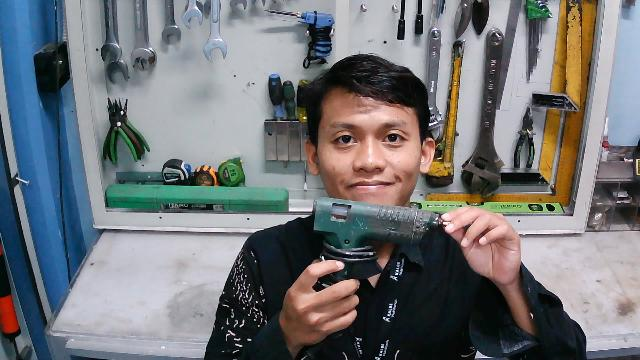gun_lem: (309, 194, 452, 293)
